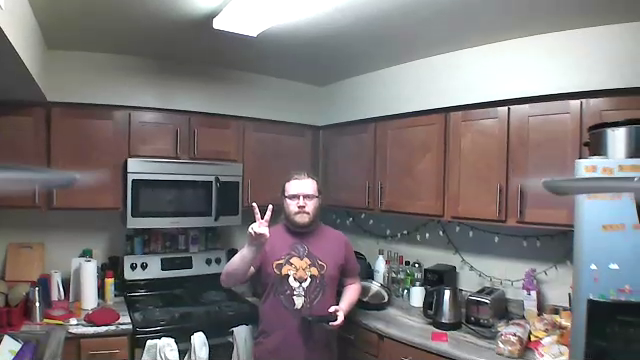peace: (246, 199, 275, 249)
